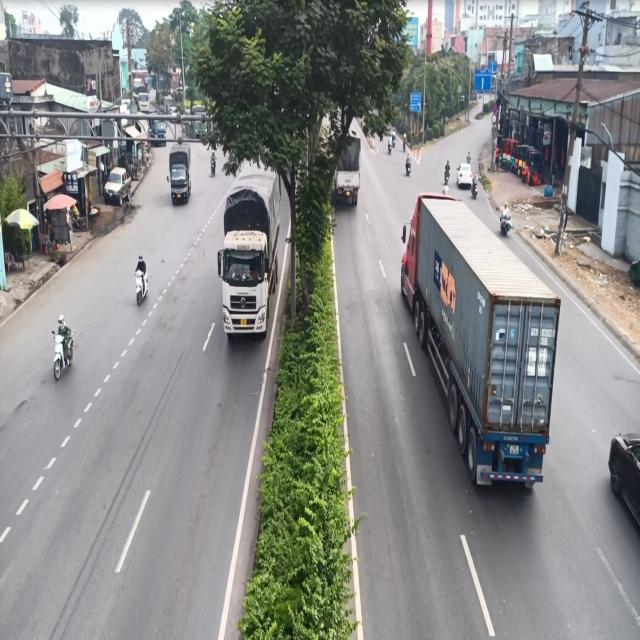motor: (48, 303, 76, 382), (132, 245, 148, 316)
truck: (397, 182, 562, 506), (216, 177, 282, 354), (168, 138, 194, 212)
